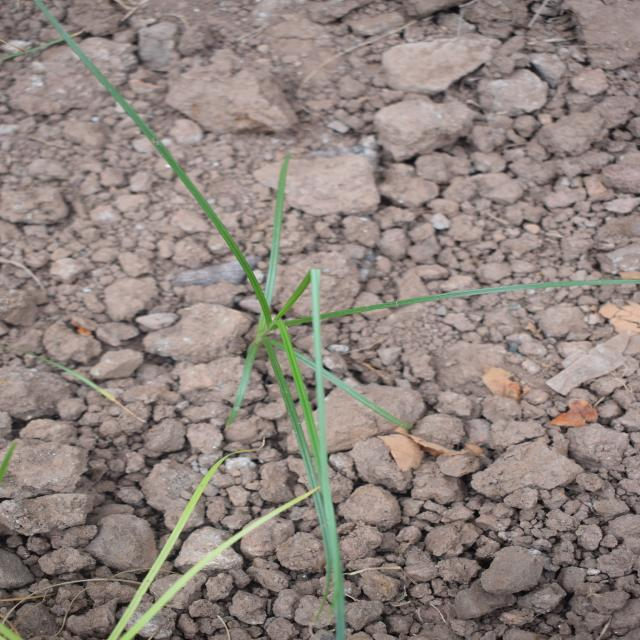sedge: (74, 156, 515, 550)
